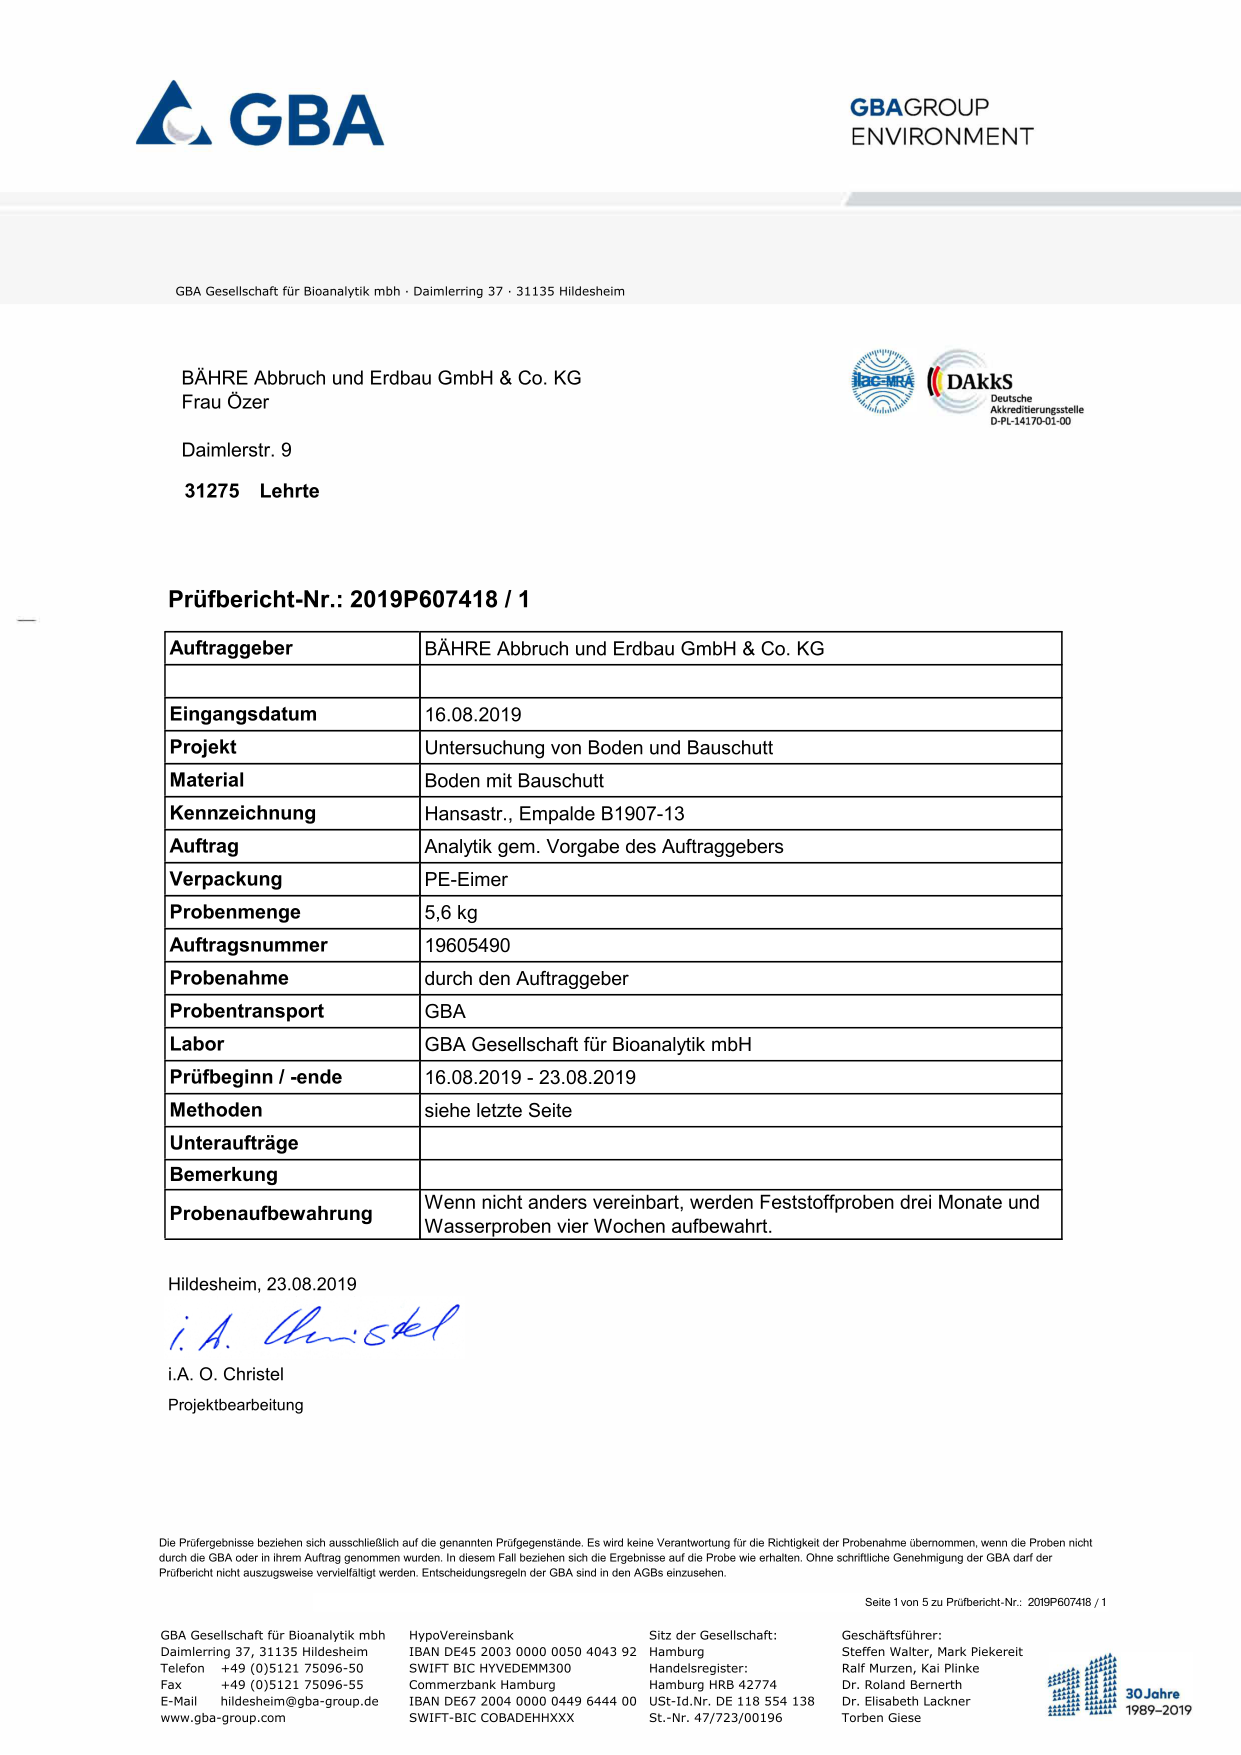table: (146, 624, 1069, 1251)
